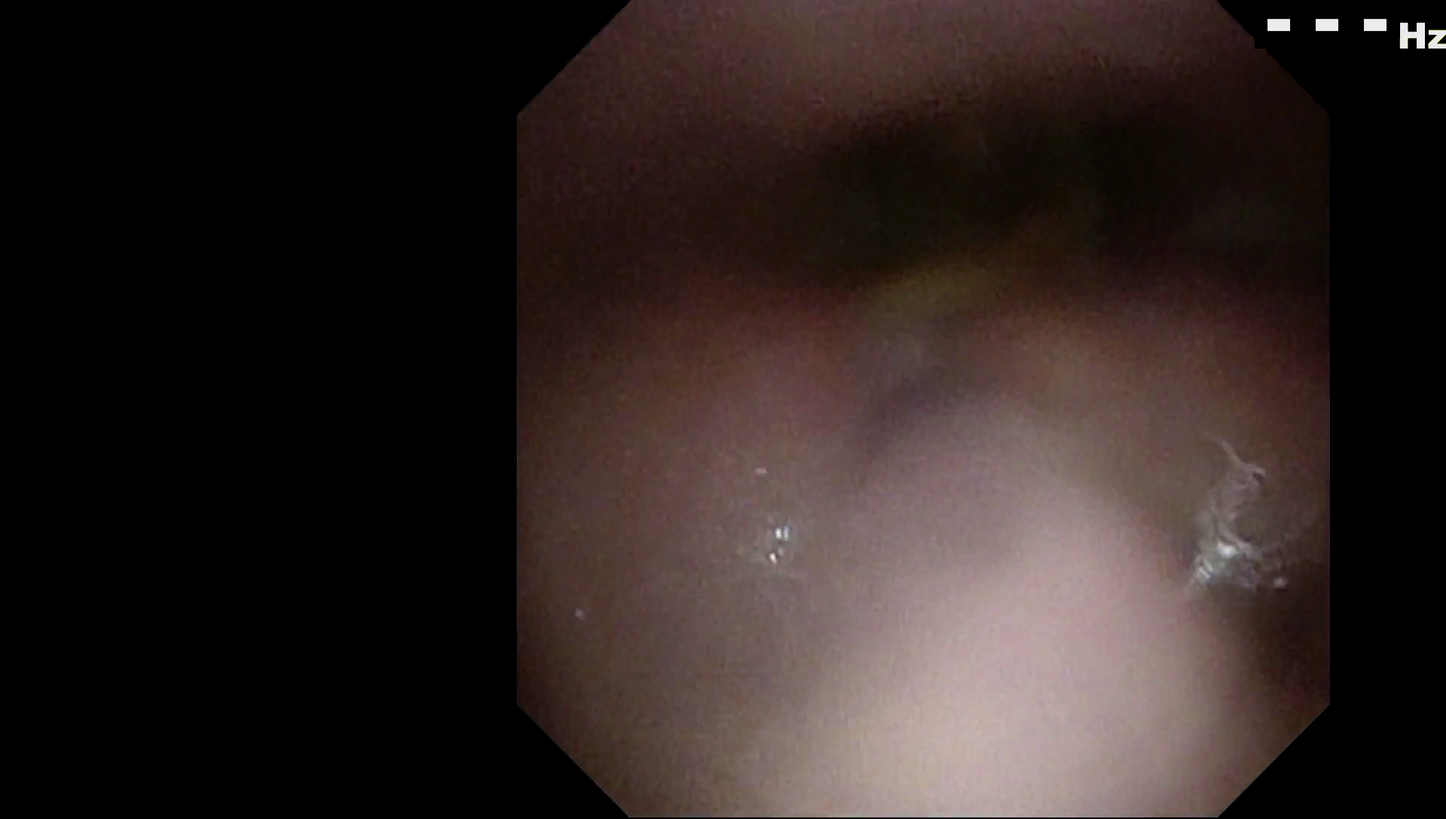next: (1044, 60, 1226, 293), (816, 80, 995, 255)
